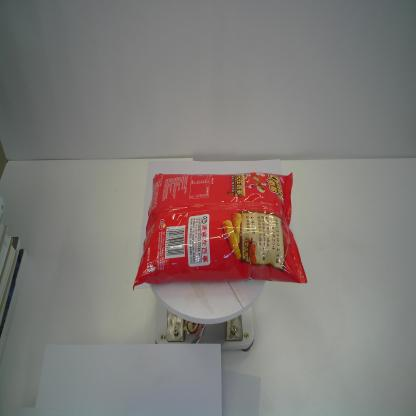Puffed Food: (132, 170, 308, 294)
